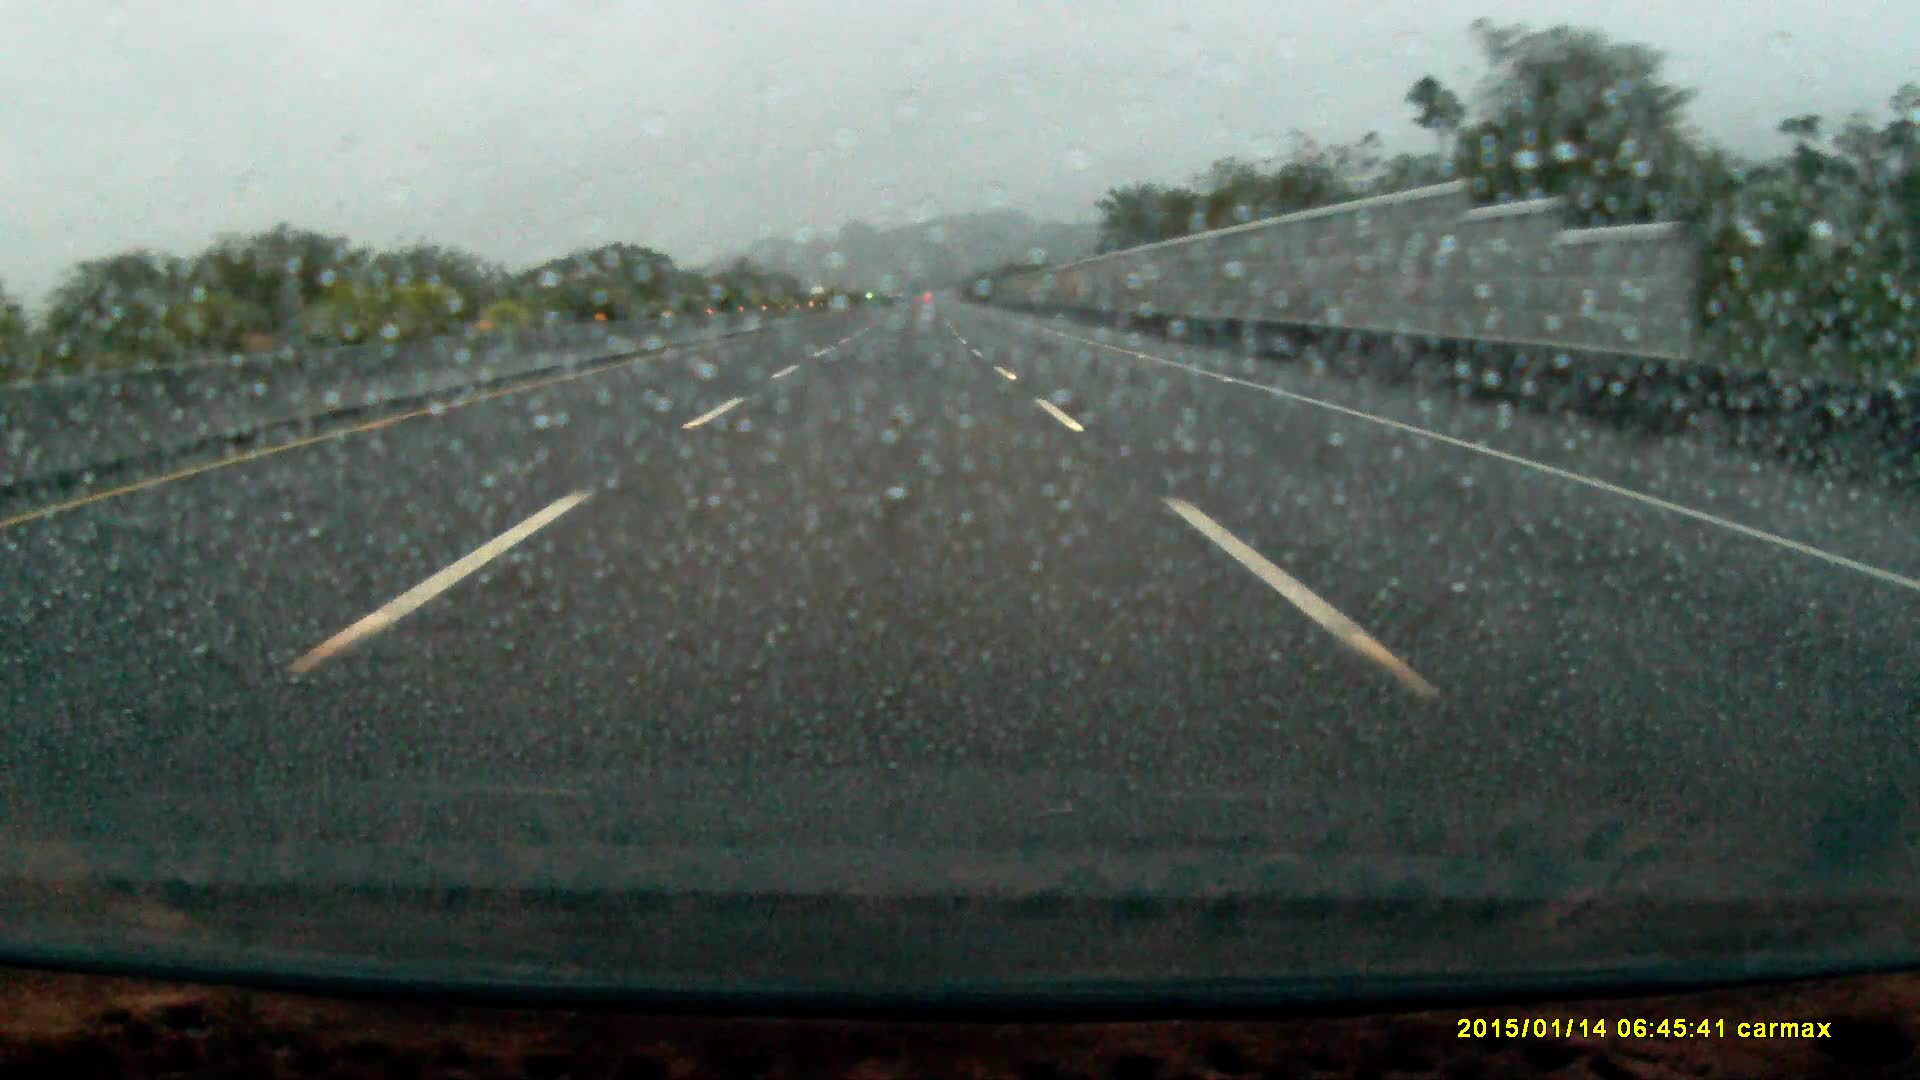vehicle: (808, 287, 829, 309)
